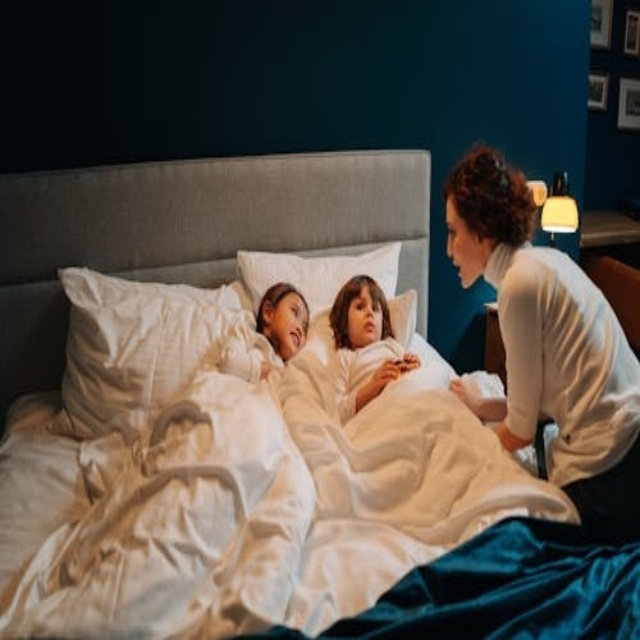Sin_gafas: (351, 286, 383, 311), (285, 294, 308, 323), (443, 215, 465, 244)
Sin_guantes: (373, 356, 417, 389)
Sin_mascara: (447, 252, 472, 284), (357, 317, 378, 338), (291, 330, 303, 346)
